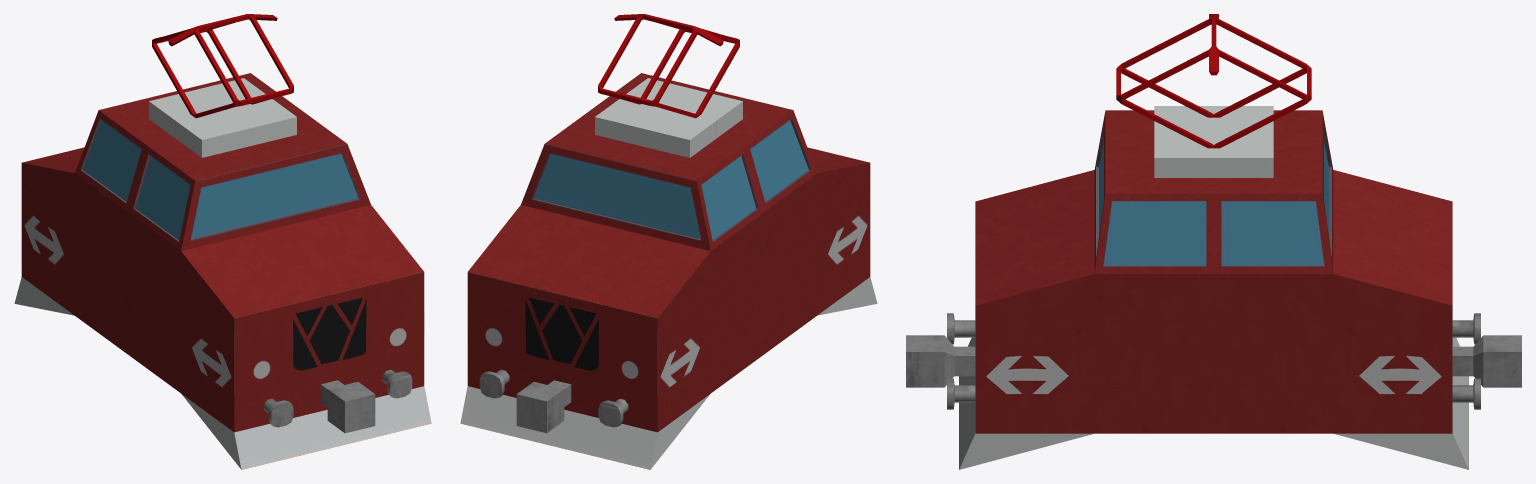
File: loco_02-el1.glb
3 views of the same model, side by side, from view 1: azimuth 30°, elevation 25°; view 2: azimuth 150°, elevation 25°; view 3: azimuth 270°, elevation 25° (orthographic). The views are drawn at different scales.
Visible parts, largest first — view 1: Elect_1_Elect_1_0; view 2: Elect_1_Elect_1_0; view 3: Elect_1_Elect_1_0.
Boxes of the visible parts, bbox=[...] form: Elect_1_Elect_1_0: bbox=[14, 14, 431, 469]; Elect_1_Elect_1_0: bbox=[460, 14, 877, 469]; Elect_1_Elect_1_0: bbox=[906, 14, 1521, 469].
Size of the model in its own units: 3.86 by 6.65 by 9.64.
3 materials, 3 textured.
